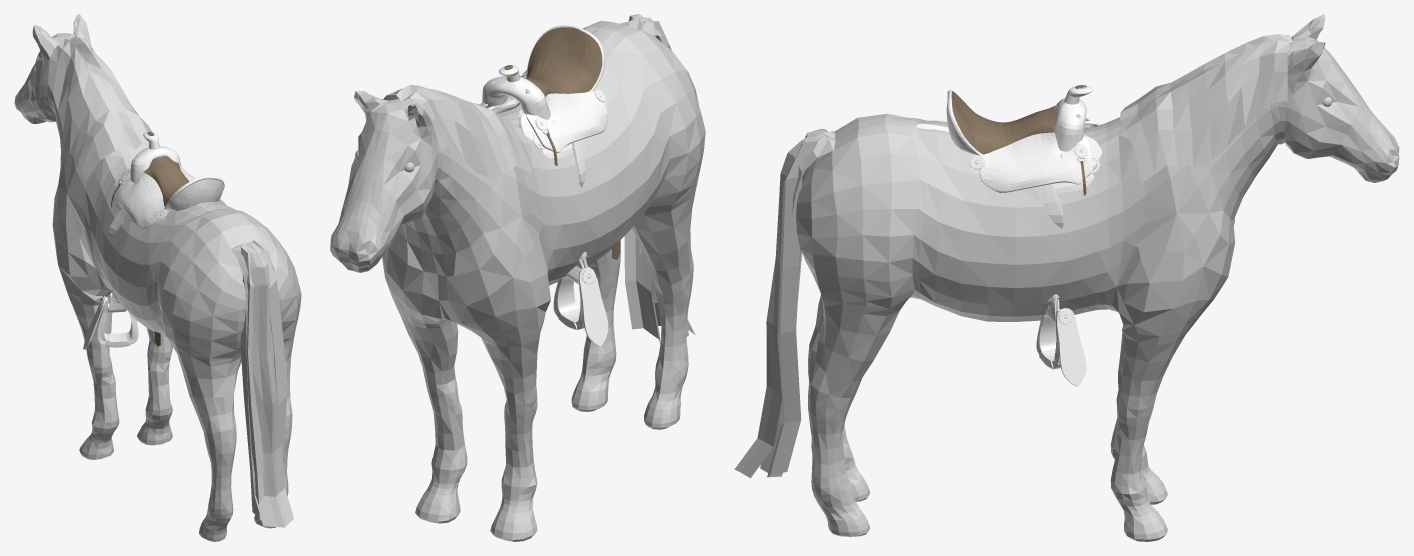
File: m_horse.glb
3 renders of one model, left to right at view 1: azimuth 30°, elevation 25°; view 2: azimuth 150°, elevation 25°; view 3: azimuth 270°, elevation 25°, orthographic. The views are drawn at different scales.
Visible parts, largest first — view 1: h1, h2, h4; view 2: h1, h2, h4; view 3: h1, h2, h4.
Part boxes in pixels (x1,y1,x2,y2): h1: (14, 14, 301, 541); h2: (83, 131, 225, 349); h4: (143, 155, 189, 206); h1: (330, 14, 705, 541); h2: (479, 25, 608, 346); h4: (524, 27, 602, 97); h1: (734, 14, 1399, 541); h2: (916, 86, 1101, 386); h4: (951, 91, 1057, 154).
Bounding box in the file's own units: 0.7393 × 1.91 × 2.36.
